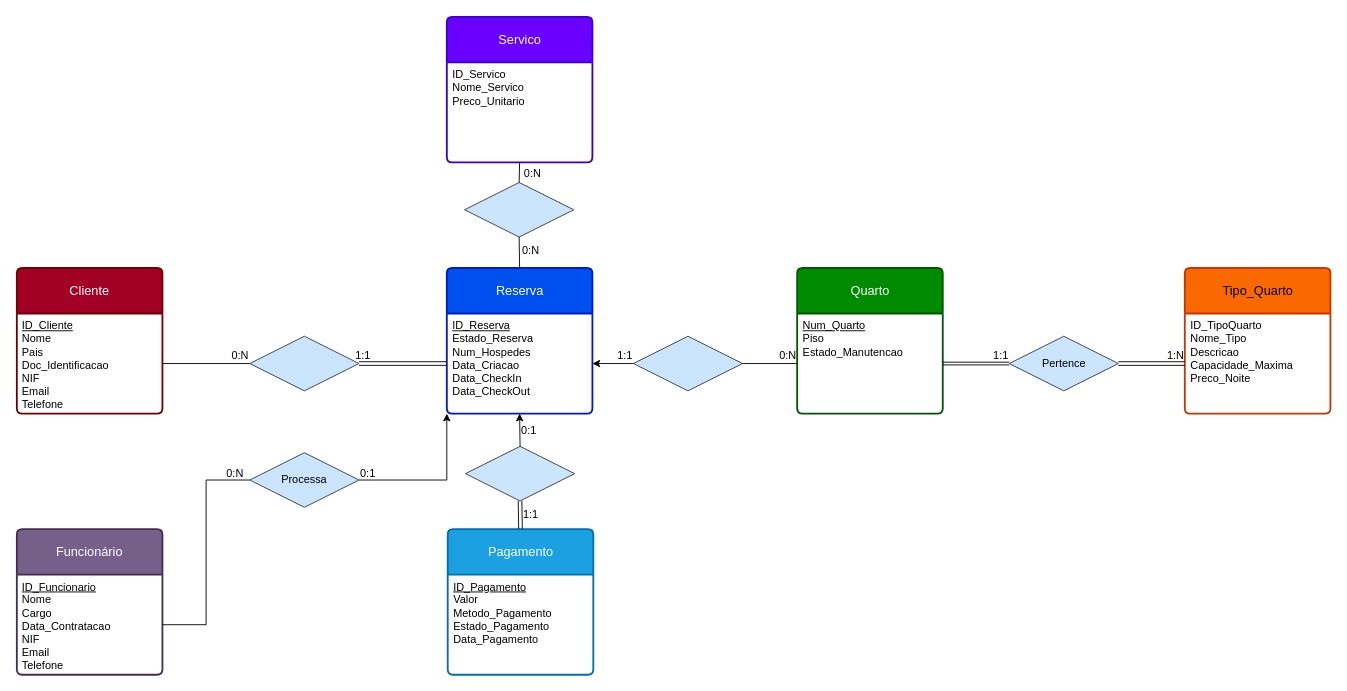
Image size: 1347x691. Some labels were removed from this diagram. Each missing label, with the centre of its shape:
"Afeta" belongs at pixel 687 363.
"Apresenta" belongs at pixel 520 473.
"Inclui" belongs at pixel 519 209.
"Realiza" belongs at pixel 304 363.
